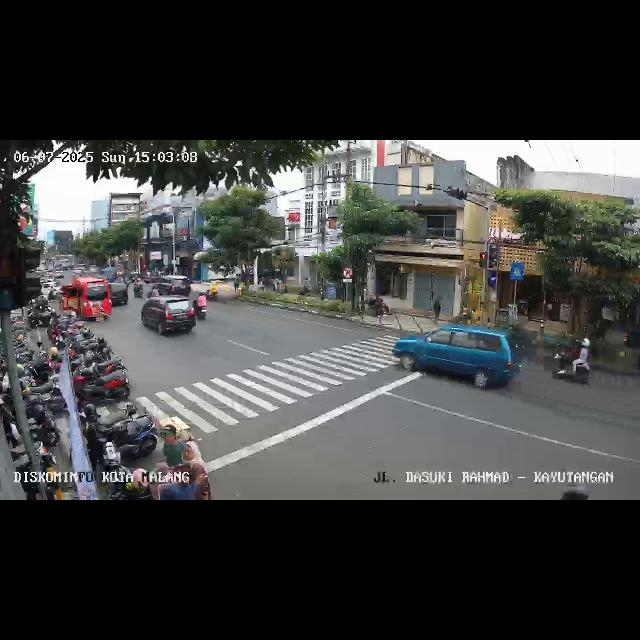car: (392, 323, 520, 392), (58, 277, 112, 323), (140, 296, 197, 338), (156, 276, 190, 296)
motorcycle: (550, 335, 592, 387), (196, 292, 210, 318)
person: (182, 440, 208, 500), (161, 424, 185, 468)
